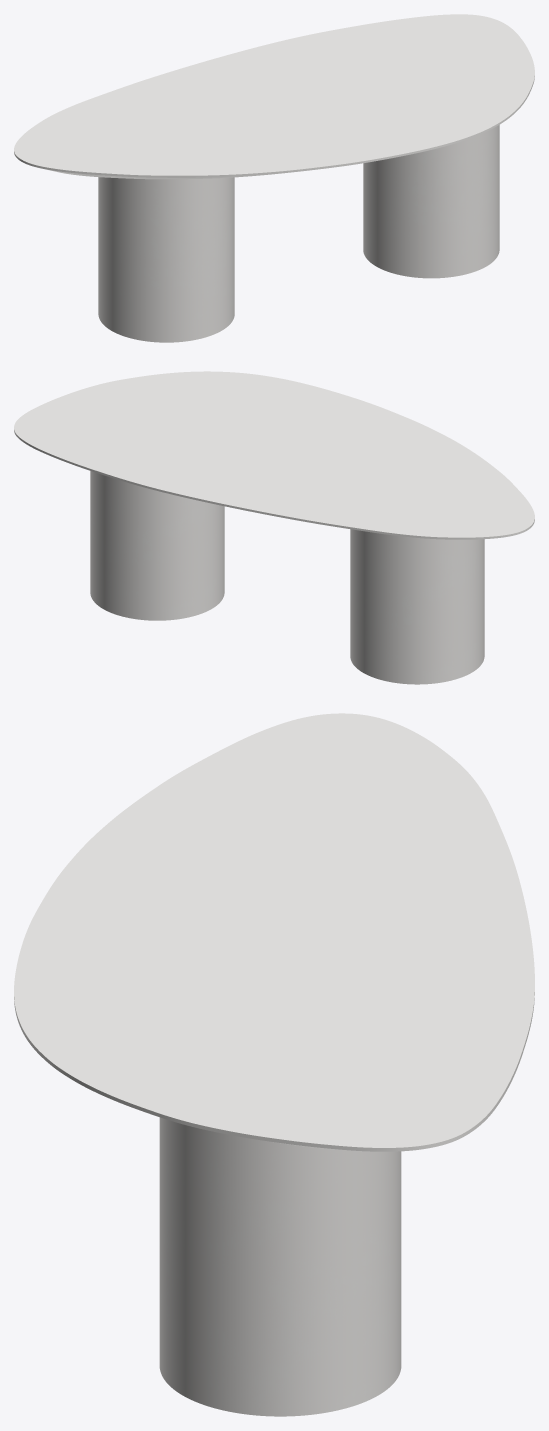
Rendered from purewhite_pebbletop_facet_stream.glb.
The picture shows the model from 3 angles, top to bottom: view 1: azimuth 30°, elevation 25°; view 2: azimuth 150°, elevation 25°; view 3: azimuth 270°, elevation 25°; orthographic projection. The views are drawn at different scales.
Visible parts, largest first — view 1: facet_pebbletop, stream; view 2: facet_pebbletop, stream; view 3: facet_pebbletop, stream.
Boxes of the visible parts, left/top/right/bottom form: facet_pebbletop: left=14, top=14, right=534, bottom=179; stream: left=98, top=125, right=499, bottom=342; facet_pebbletop: left=14, top=371, right=534, bottom=539; stream: left=90, top=471, right=484, bottom=684; facet_pebbletop: left=14, top=713, right=534, bottom=1151; stream: left=159, top=1117, right=401, bottom=1416.
Size of the model in its own units: 7.5 by 2.5 by 3.8.
1 material, 1 textured.
